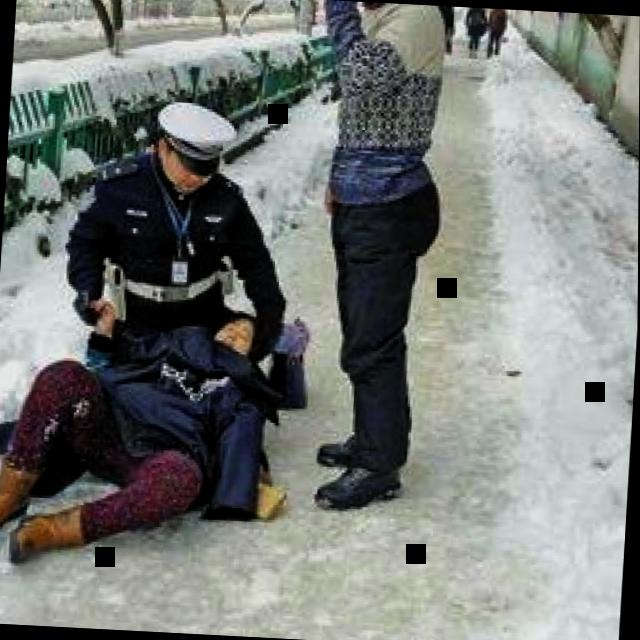Fall-Detected: (0, 285, 321, 585)
